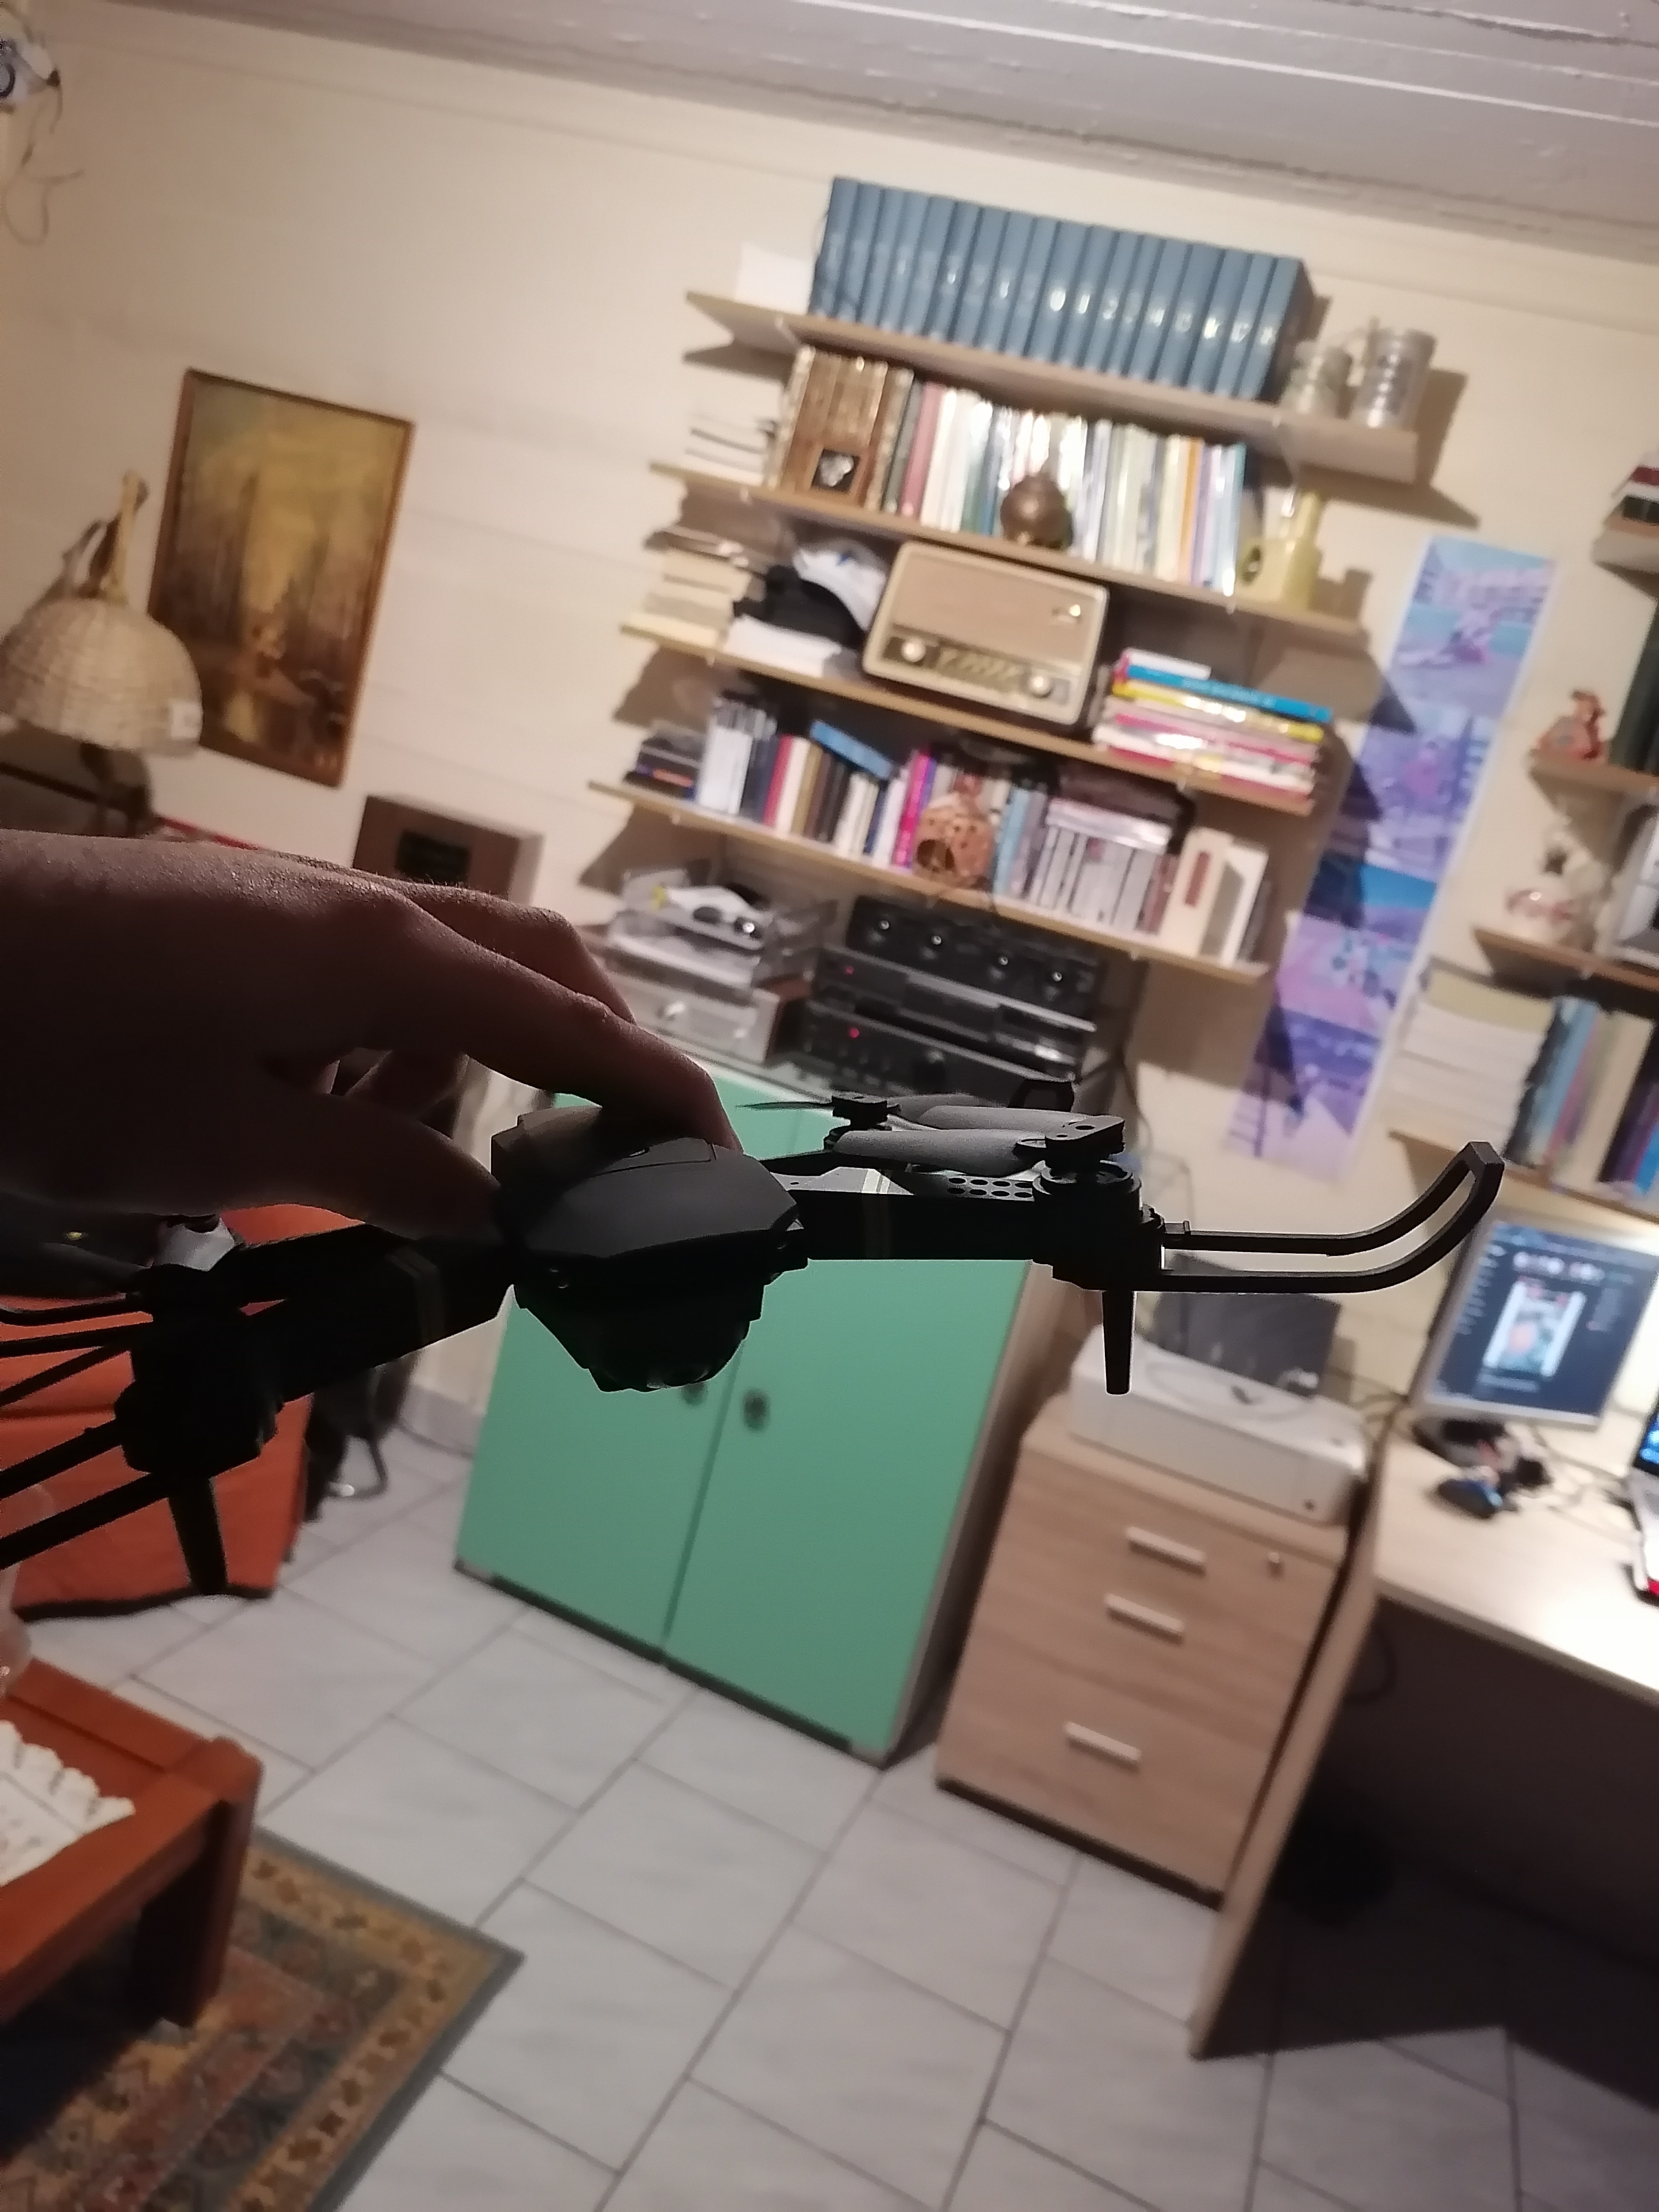drone: (19, 1017, 1539, 1559)
